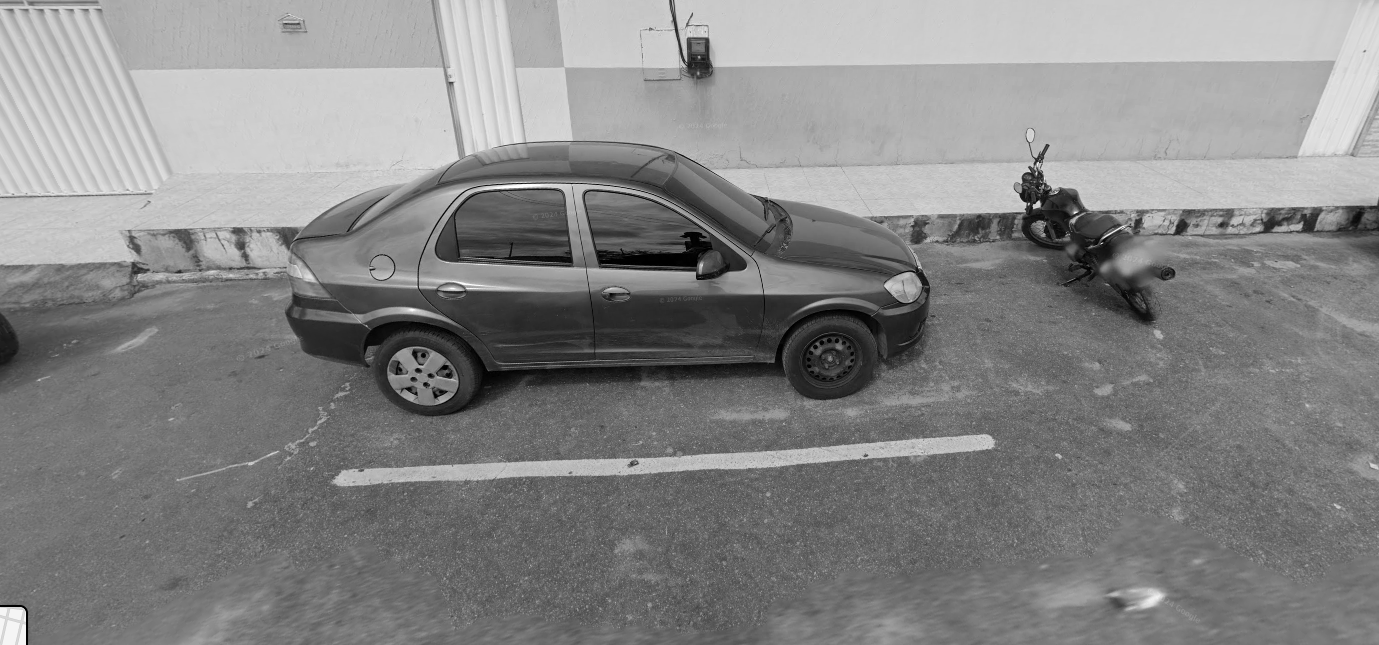car: (281, 137, 938, 441)
